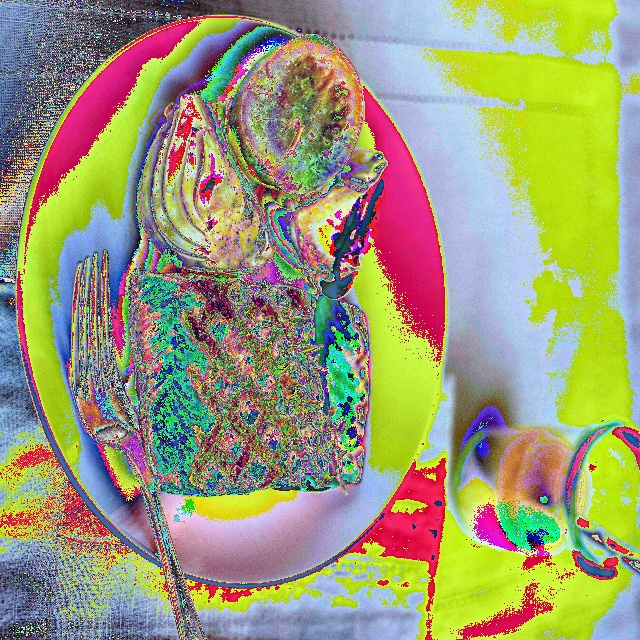background: (130, 126, 585, 555), (126, 35, 387, 496)
